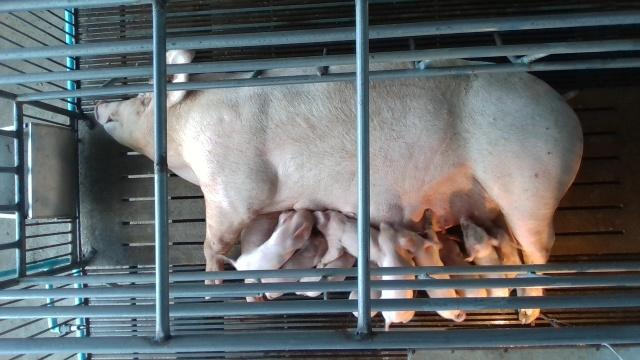piglet: (395, 224, 465, 323), (218, 209, 314, 270), (262, 229, 329, 299), (378, 223, 415, 330), (462, 218, 510, 298), (316, 209, 382, 265), (483, 219, 523, 290)
sow-sleep-lactate: (96, 49, 588, 324)
